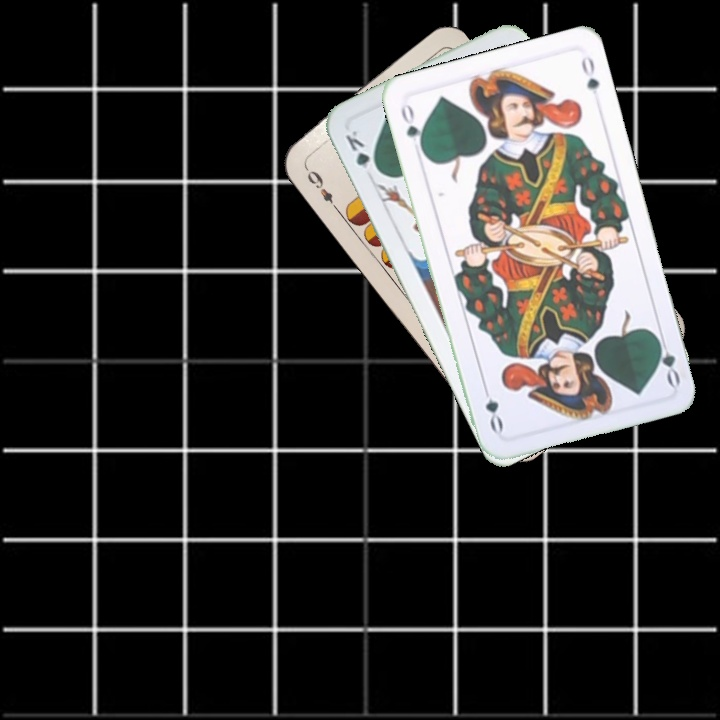E9: (300, 161, 340, 212)
GK: (341, 126, 382, 177)
GO: (651, 330, 683, 389), (396, 98, 427, 156)
